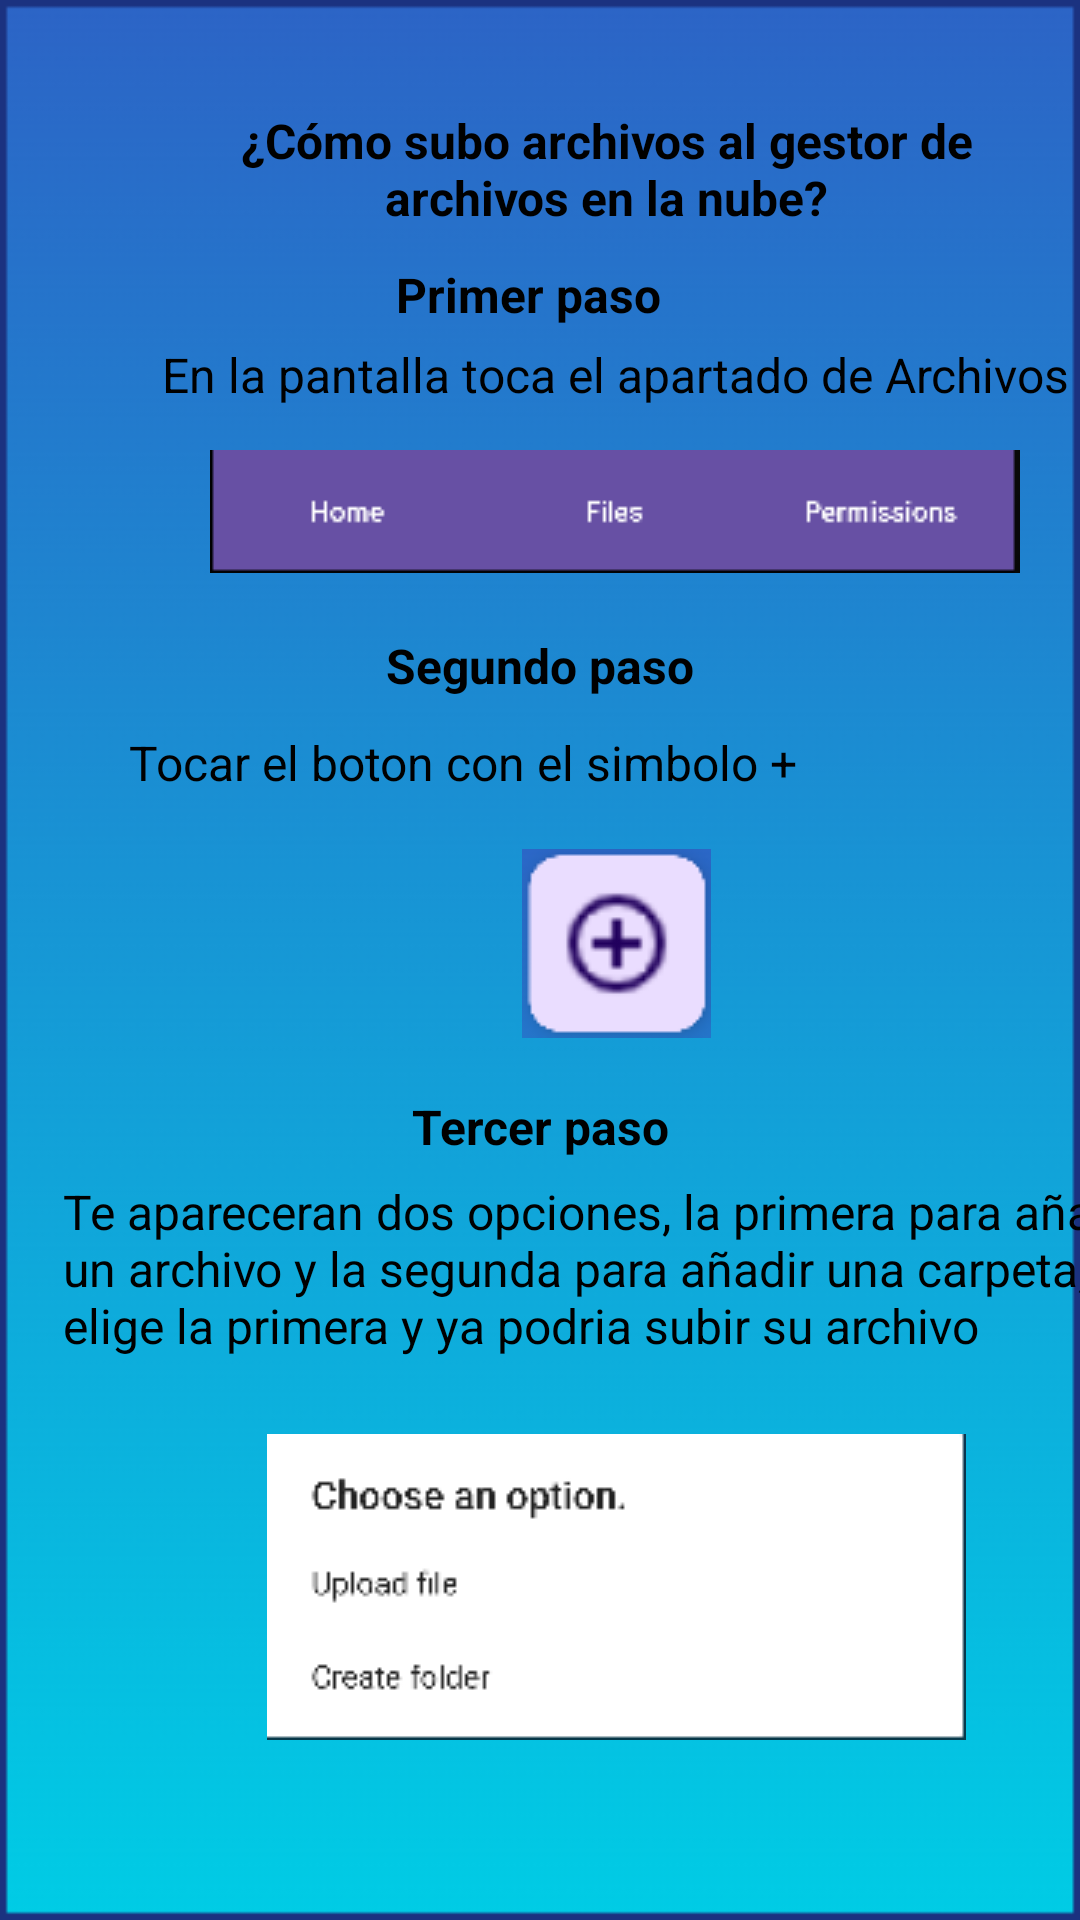

Icon click points for this 1080px x 1920px phone screenshot, format [x,y]:
mas: [616,943]
